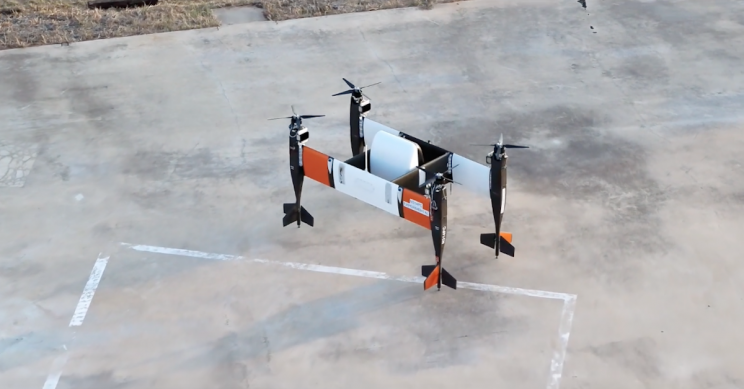drone: (264, 72, 542, 304)
